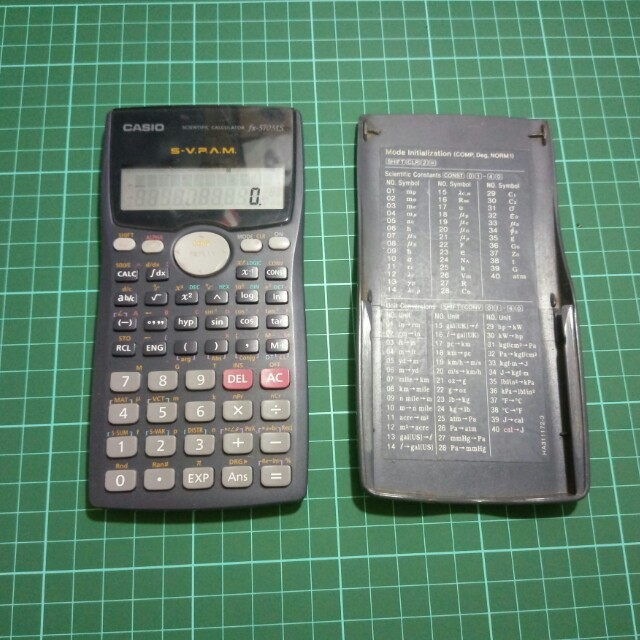Calculator: (83, 99, 315, 521)
